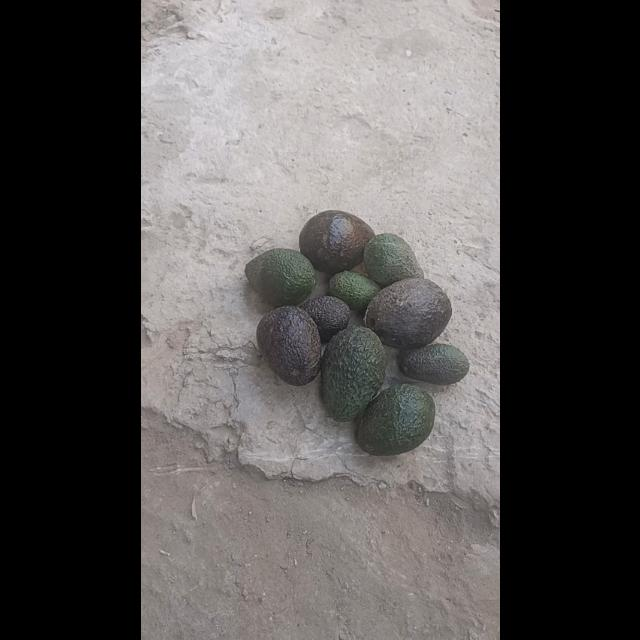Primera: (318, 325, 388, 419), (364, 276, 450, 348), (356, 382, 434, 454), (255, 306, 321, 384), (297, 208, 375, 272)
Segunda: (243, 248, 314, 306), (362, 232, 422, 286)
Tercera: (399, 342, 468, 384), (298, 294, 349, 344), (328, 270, 380, 314)
